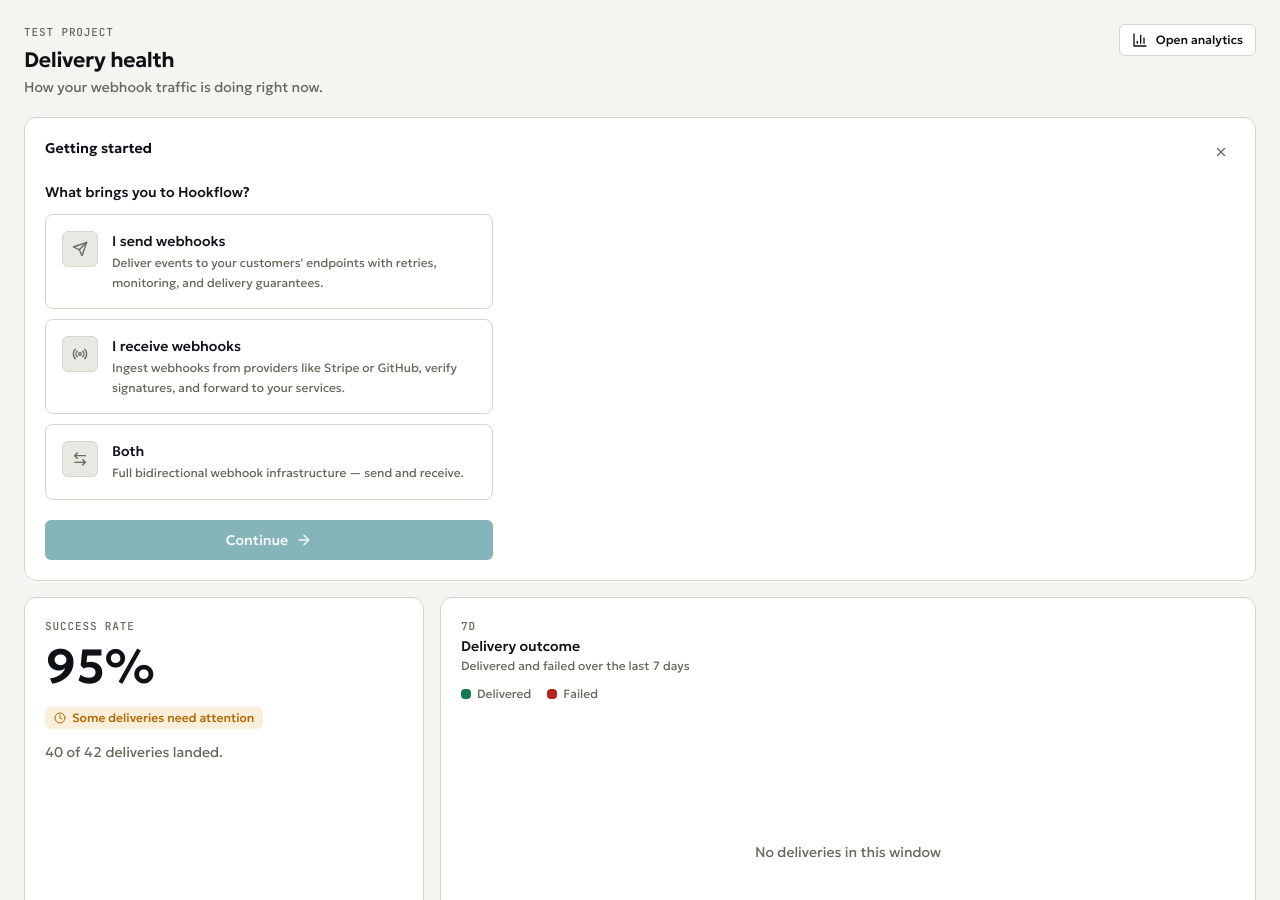
it: DashboardPage › offers a way back after the getting-started card is dismissed
Click the button named "Dismiss": (1221, 152) [1207,138,1235,166]
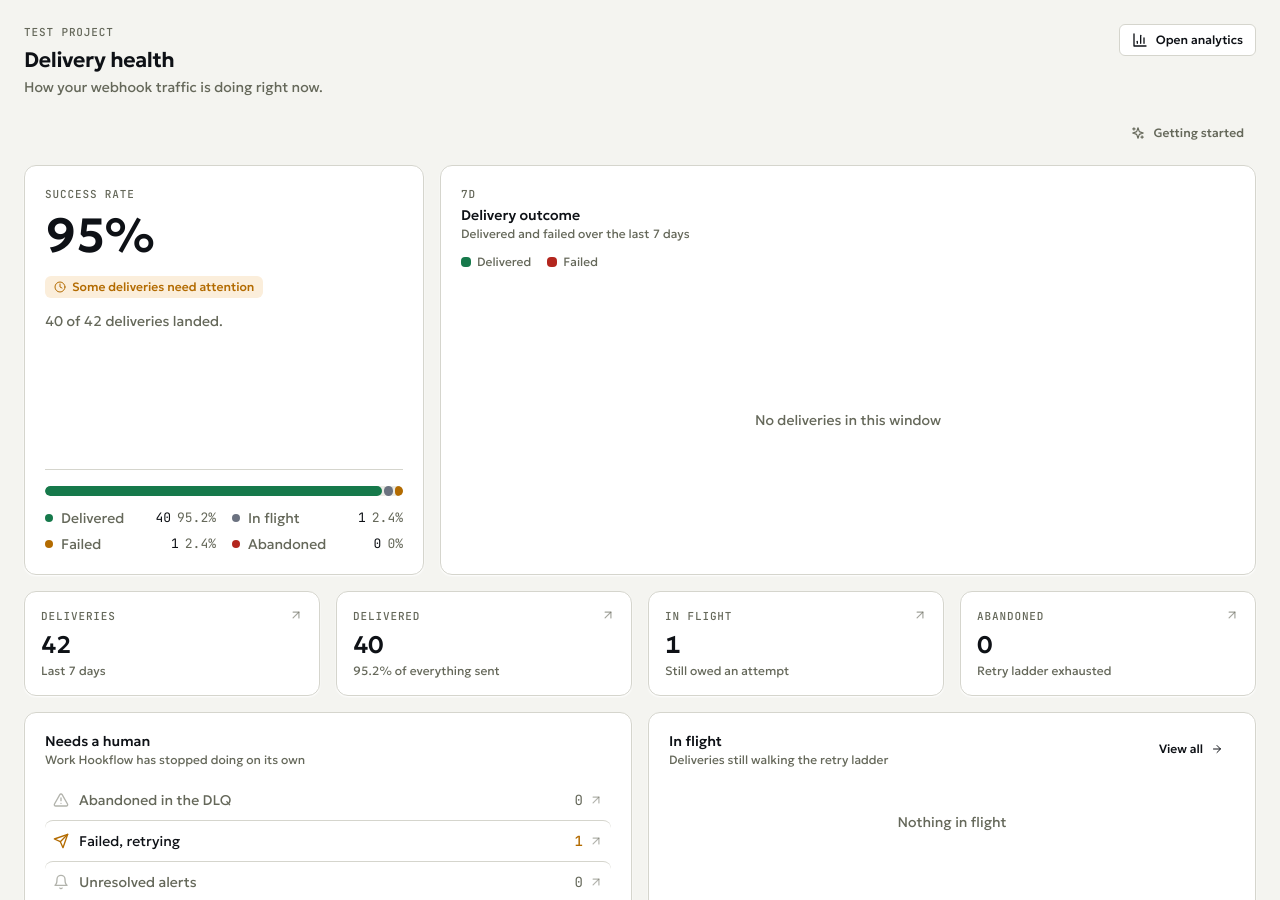
Click the button "Getting started": (1188, 133) [1120,117,1256,149]
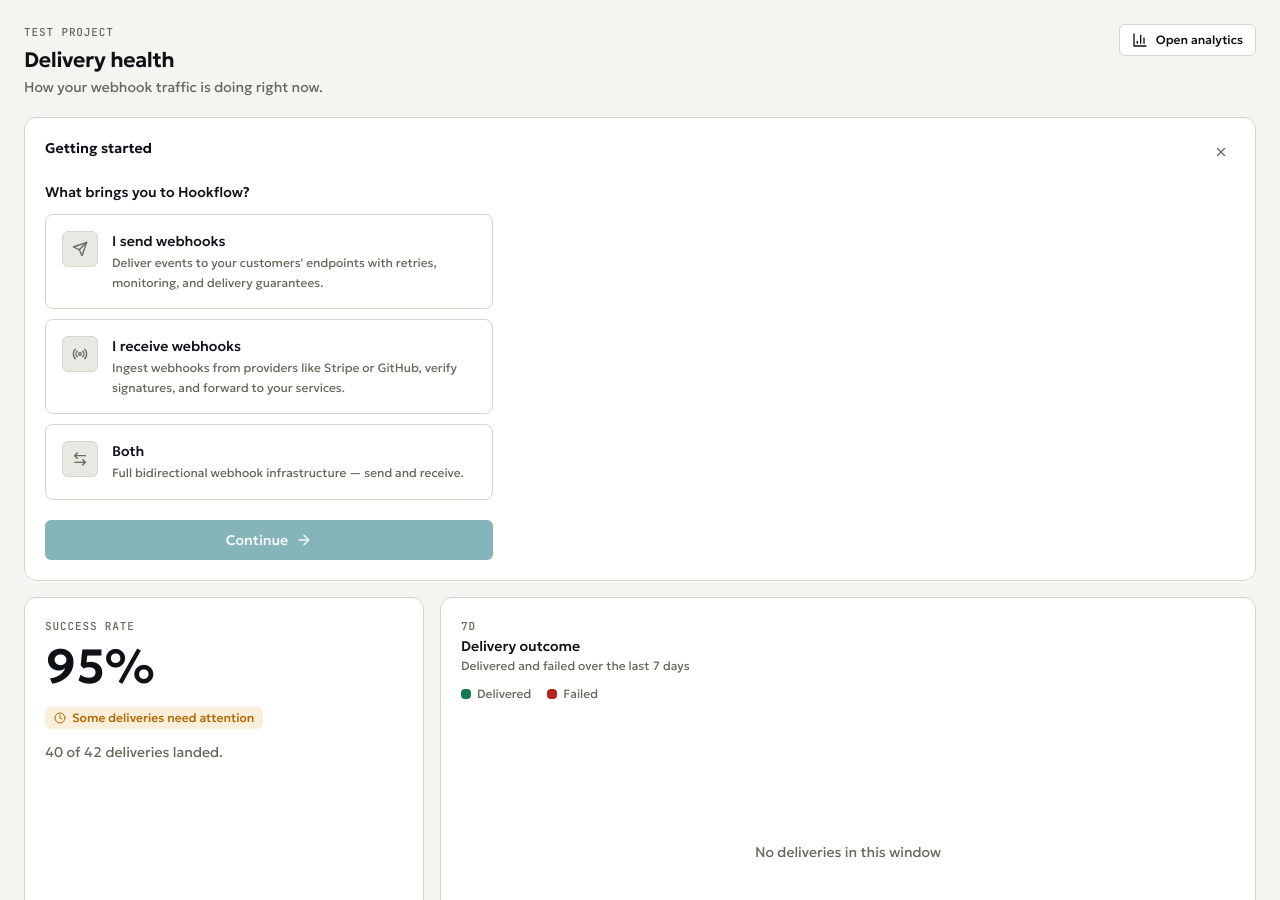
expect the text "What brings you to Hookflow?" is shown: met, box [45,183,250,201]
